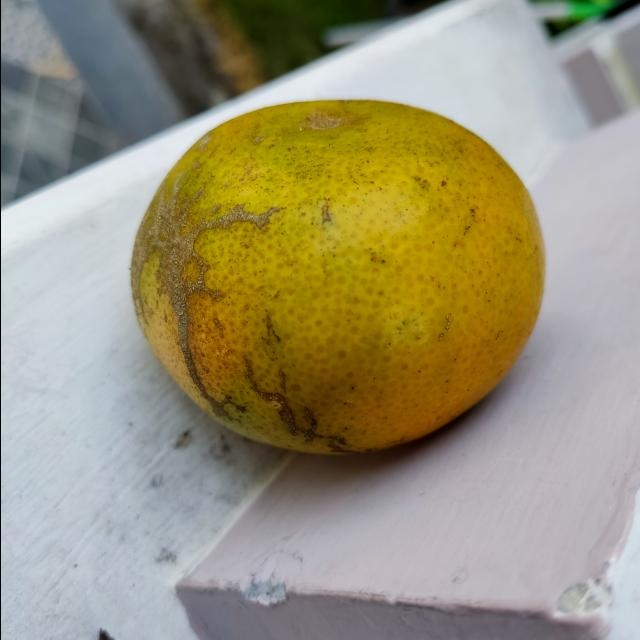agrume: (126, 93, 546, 457)
